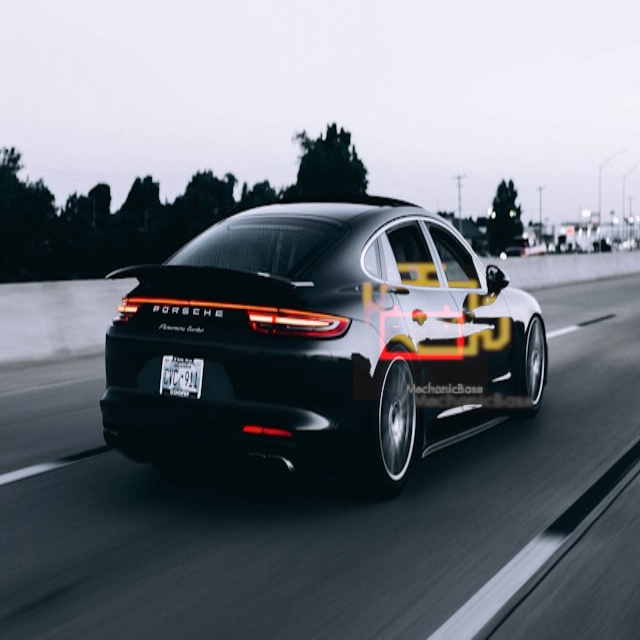symbol: (327, 203, 542, 418), (353, 265, 488, 400)
